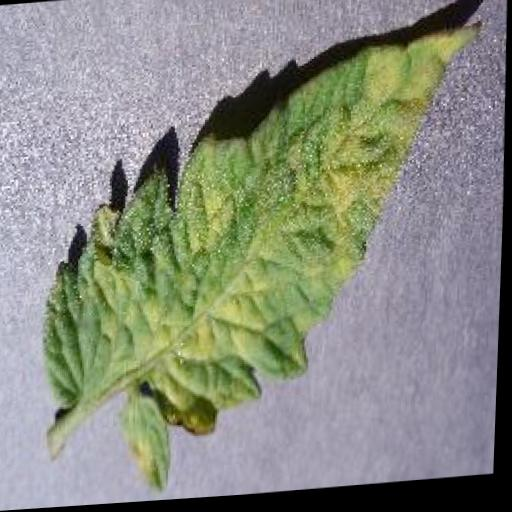Leaf Mold: (36, 26, 495, 505)
